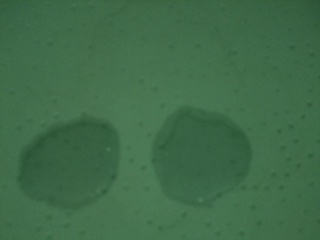Water_detected: (27, 129, 107, 202), (155, 122, 224, 188)
